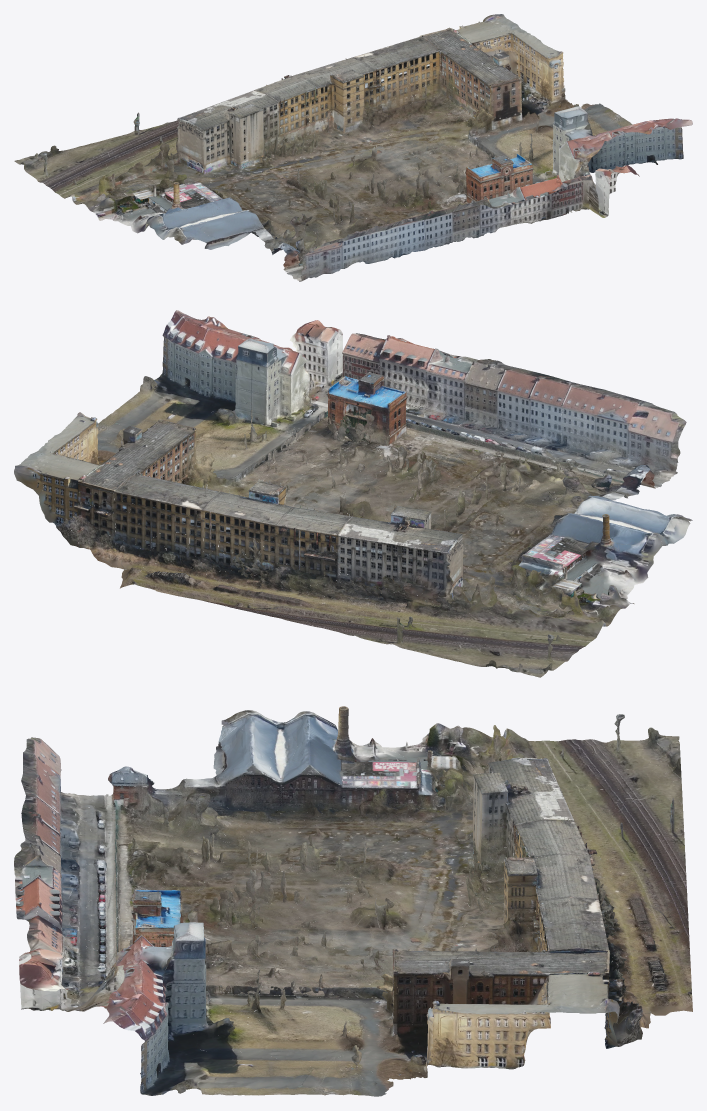
Rendered from sf-leipzig-industrial-area-0f7a50.glb.
3 renders of one model, top to bottom at view 1: azimuth 30°, elevation 25°; view 2: azimuth 150°, elevation 25°; view 3: azimuth 270°, elevation 25°, orthographic. The views are drawn at different scales.
Parts seen in each view (by area): view 1: Model_material0_0, Model_material1_0, Model_material2_0; view 2: Model_material0_0, Model_material1_0, Model_material2_0; view 3: Model_material1_0, Model_material2_0, Model_material0_0.
Boxes of the visible parts, x1,y1,x2,y2 form: Model_material0_0: (44,26,692,281); Model_material1_0: (14,14,681,280); Model_material2_0: (34,16,656,273); Model_material0_0: (39,310,690,668); Model_material1_0: (14,324,689,677); Model_material2_0: (17,338,692,672); Model_material1_0: (15,706,690,1096); Model_material2_0: (33,707,692,1077); Model_material0_0: (14,711,691,1096).
Size of the model in its own units: 89.34 by 13.28 by 68.91.
Materials: 3 (3 with a texture image).
